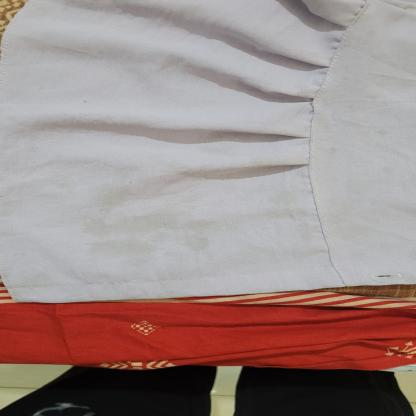spot: (69, 181, 234, 266)
